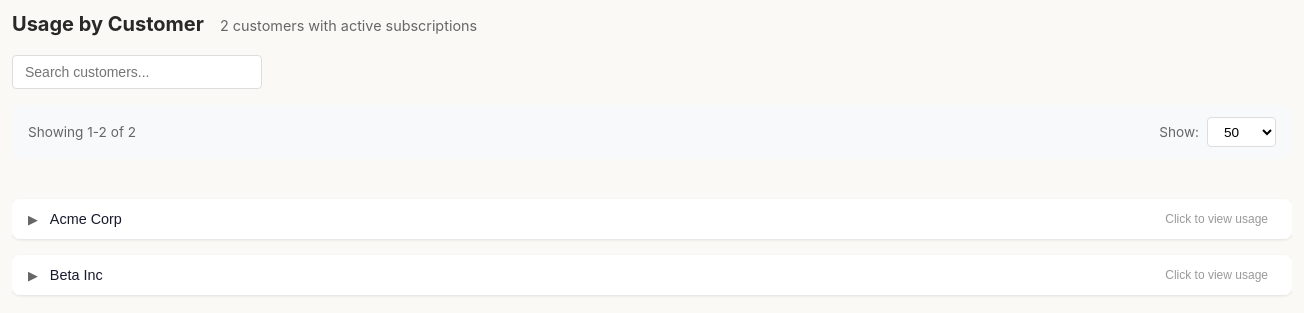
Test: CustomerUsageView › Search Accessibility › should filter results and announce changes
This screenshot has width=1304, height=313.
Expected: the text "Acme Corp" is shown, x1=50 y1=211 x2=122 y2=227
Expected: the text "Beta Inc" is shown, x1=50 y1=267 x2=103 y2=283
In the field with placeholder "Search customers...": [137, 72] box x1=12 y1=55 x2=262 y2=89, type "Acme"
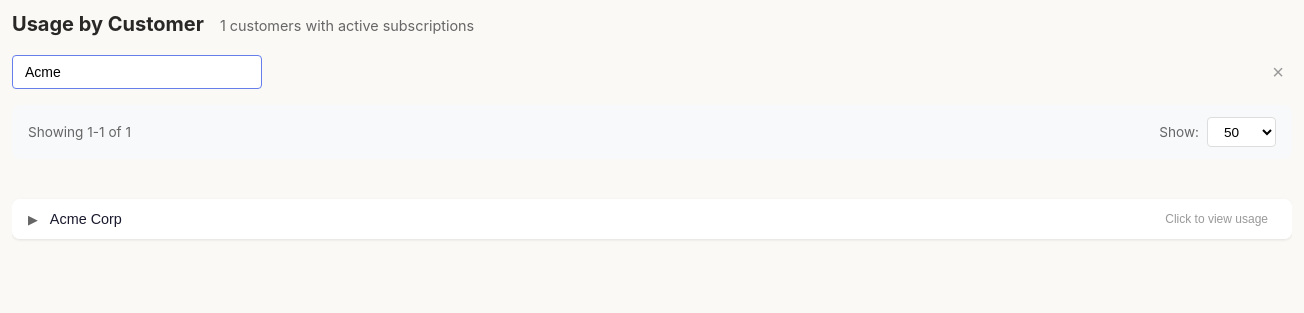
Expected: the text "Acme Corp" is shown, x1=50 y1=211 x2=122 y2=227
Result: the button "Beta Inc" is gone
